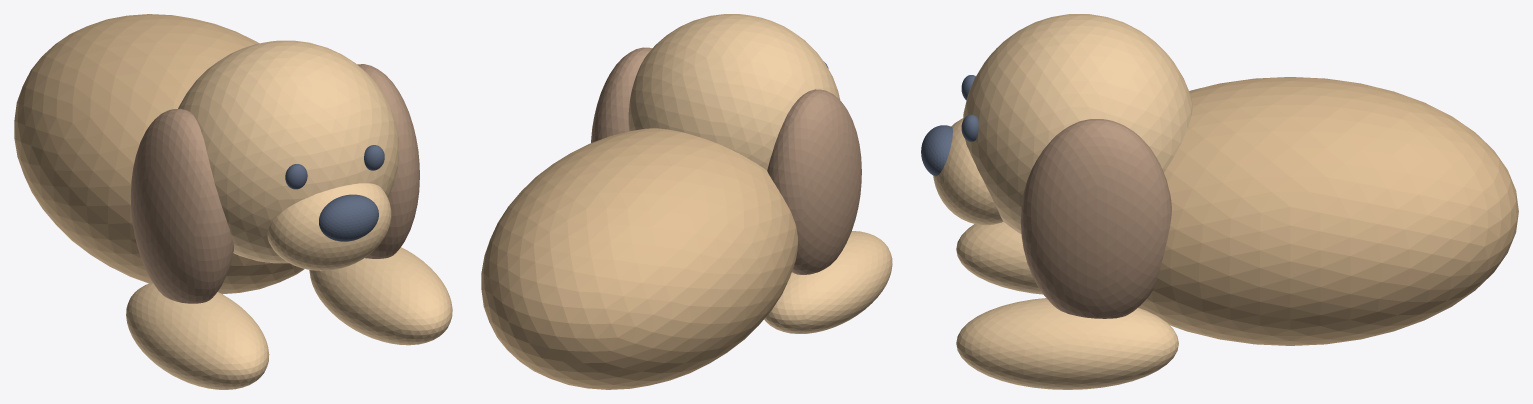
File: resting-dog.glb
3 views of the same model, side by side, from view 1: azimuth 30°, elevation 25°; view 2: azimuth 150°, elevation 25°; view 3: azimuth 270°, elevation 25° (orthographic). The views are drawn at different scales.
Parts seen in each view (by area): view 1: body, head, ear-0.19, paw-0.19, paw0.19, snout, ear0.19, nose, eye-0.08, eye0.08; view 2: body, head, ear-0.19, paw-0.19, ear0.19; view 3: body, head, ear0.19, paw0.19, paw-0.19, snout, nose.
Boxes of the visible parts, x1,y1,x2,y2 form: body: (14,14,304,294); head: (178,40,399,263); ear-0.19: (130,108,233,303); paw-0.19: (126,282,269,389); paw0.19: (309,247,452,345); snout: (267,183,391,270); ear0.19: (357,64,419,258); nose: (319,194,378,241); eye-0.08: (285,164,307,189); eye0.08: (364,145,384,170); body: (481,128,797,389); head: (628,14,840,170); ear-0.19: (767,89,861,274); paw-0.19: (764,231,892,333); ear0.19: (591,47,651,142); body: (1138,77,1518,345); head: (963,14,1192,234); ear0.19: (1020,119,1171,318); paw0.19: (956,298,1178,389); paw-0.19: (956,222,1043,294); snout: (933,118,1003,225); nose: (921,125,952,176).
Size of the model in its own units: 0.58 by 0.584 by 1.02.
